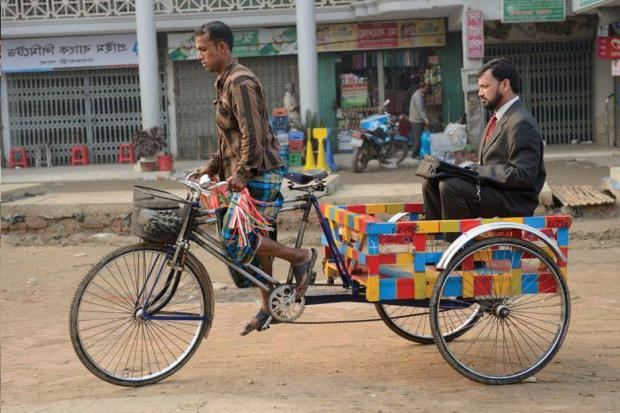Rickshaw: (73, 15, 357, 363)
